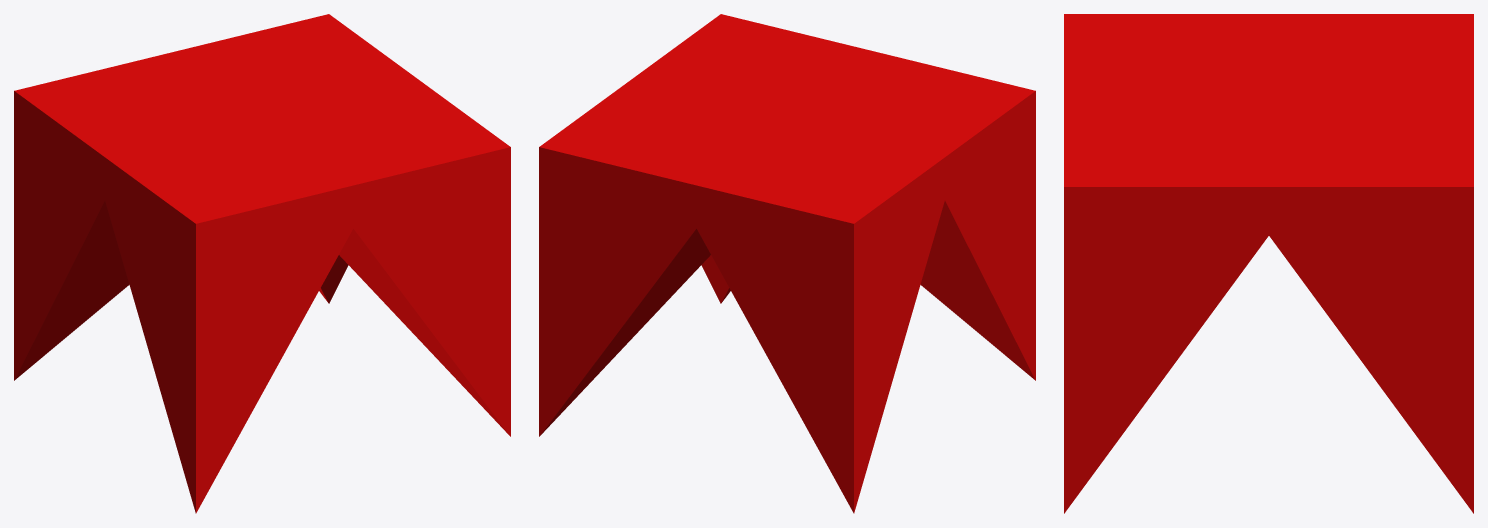
The model's file is Vault2mCollider.fbx.
The picture shows the model from 3 angles, left to right: view 1: azimuth 30°, elevation 25°; view 2: azimuth 150°, elevation 25°; view 3: azimuth 270°, elevation 25°; orthographic projection. The views are drawn at different scales.
Parts seen in each view (by area): view 1: Vault2mCollision; view 2: Vault2mCollision; view 3: Vault2mCollision.
Part boxes in pixels (left/top/right/bottom): Vault2mCollision: left=14, top=14, right=510, bottom=513; Vault2mCollision: left=539, top=14, right=1035, bottom=513; Vault2mCollision: left=1064, top=14, right=1473, bottom=513.
Size of the model in its own units: 400 by 352 by 400.
